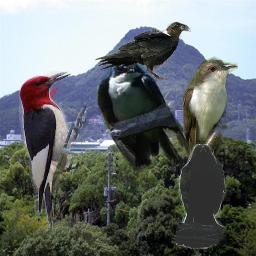Crow: (94, 21, 192, 81), (176, 144, 227, 249)
Cuckoo: (183, 54, 238, 218)
Swallow: (94, 54, 198, 179)
Woodpecker: (19, 71, 86, 230)
